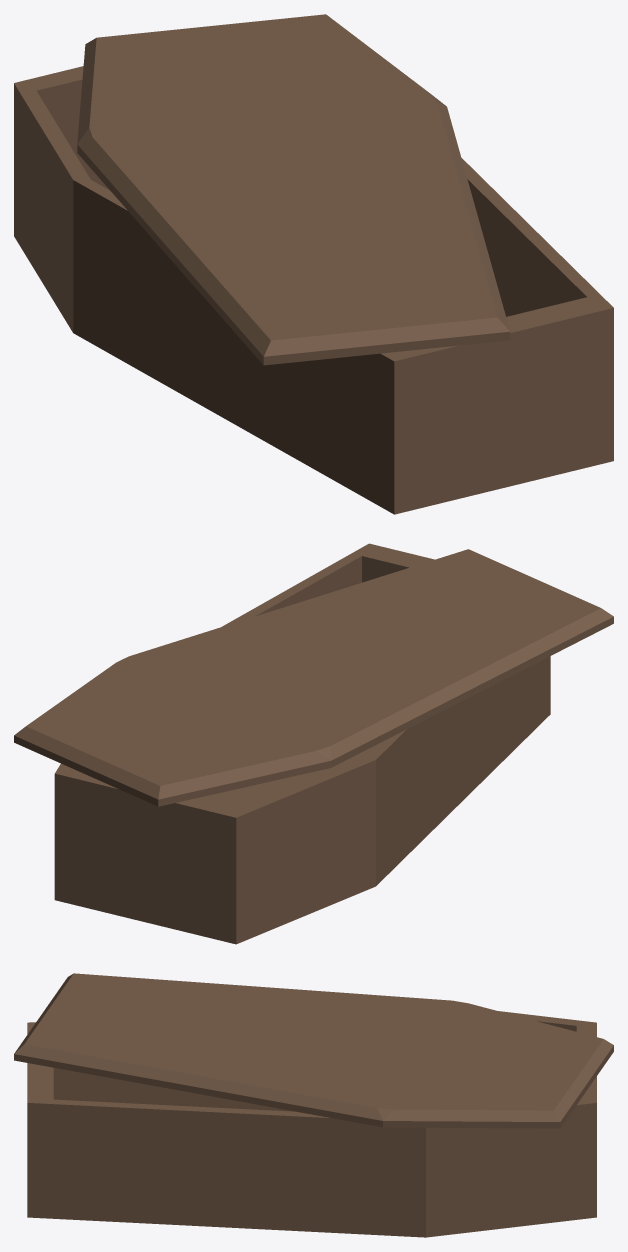
The model's file is COFFIN1.fbx.
The picture shows the model from 3 angles, top to bottom: view 1: azimuth 30°, elevation 25°; view 2: azimuth 150°, elevation 25°; view 3: azimuth 270°, elevation 25°; orthographic projection. The views are drawn at different scales.
Visible parts, largest first — view 1: kapak, Cube; view 2: kapak, Cube; view 3: Cube, kapak.
Boxes of the visible parts, left/top/right/bottom form: kapak: left=77, top=14, right=510, bottom=365; Cube: left=14, top=66, right=613, bottom=514; kapak: left=14, top=549, right=613, bottom=806; Cube: left=54, top=543, right=550, bottom=944; Cube: left=27, top=1011, right=596, bottom=1237; kapak: left=14, top=973, right=613, bottom=1128.
Bounding box in the file's own units: 108 × 45.4 × 190.
